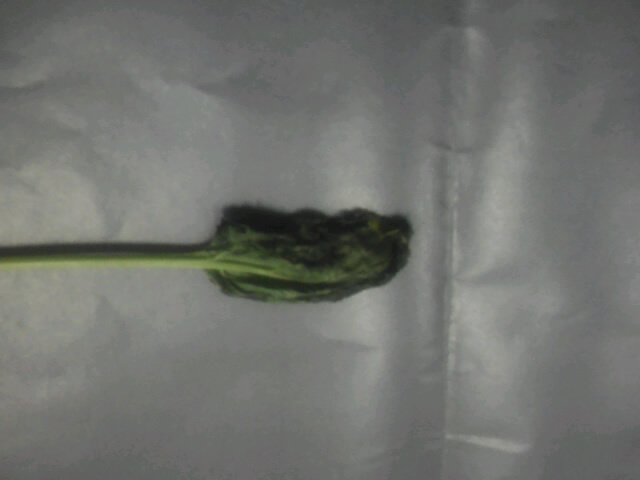yellow: (117, 194, 411, 312)
